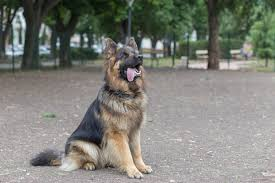dog_sitting: (27, 35, 152, 180)
